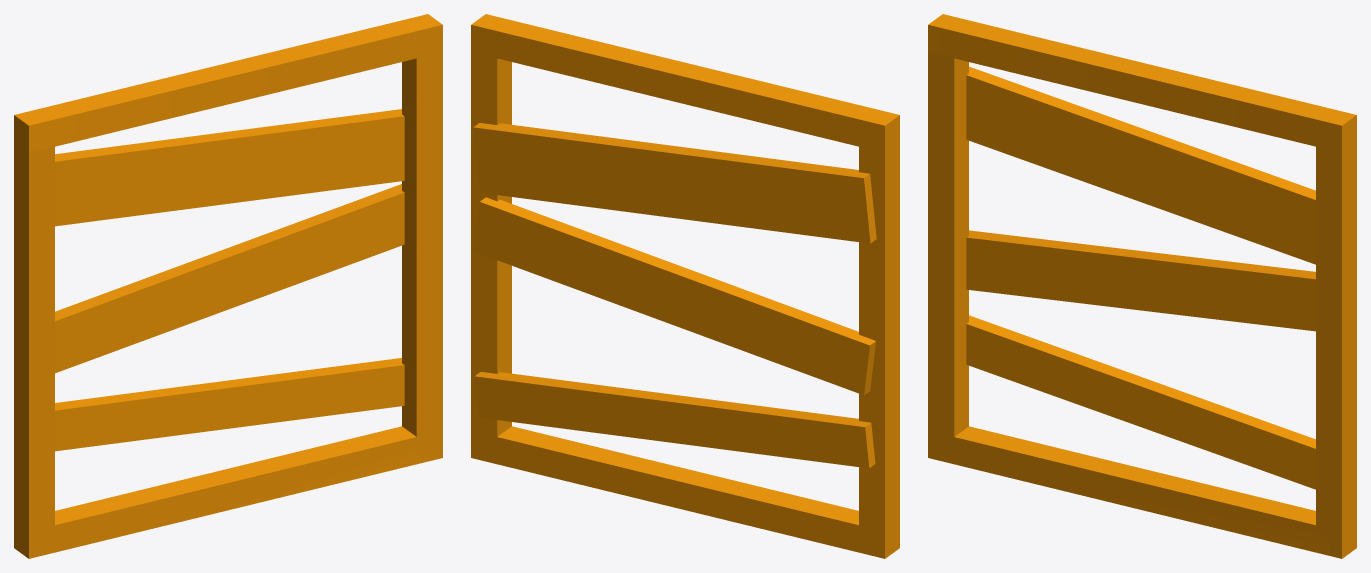
Rendered from Wood_barrier_1.fbx.
3 renders of one model, left to right at view 1: azimuth 30°, elevation 25°; view 2: azimuth 150°, elevation 25°; view 3: azimuth 330°, elevation 25°, orthographic.
Parts seen in each view (by area): view 1: Wood_barrier_1; view 2: Wood_barrier_1; view 3: Wood_barrier_1.
Boxes of the visible parts, box(x1,y1,x2,y2) form: Wood_barrier_1: box(14, 14, 442, 558); Wood_barrier_1: box(471, 14, 899, 558); Wood_barrier_1: box(928, 14, 1356, 558).
Size of the model in its own units: 3.2 by 3.2 by 0.2799.
1 material, 1 textured.
